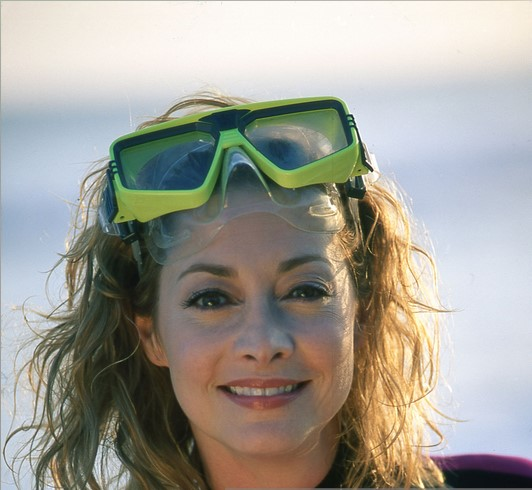face_no_mask: (148, 163, 377, 465)
